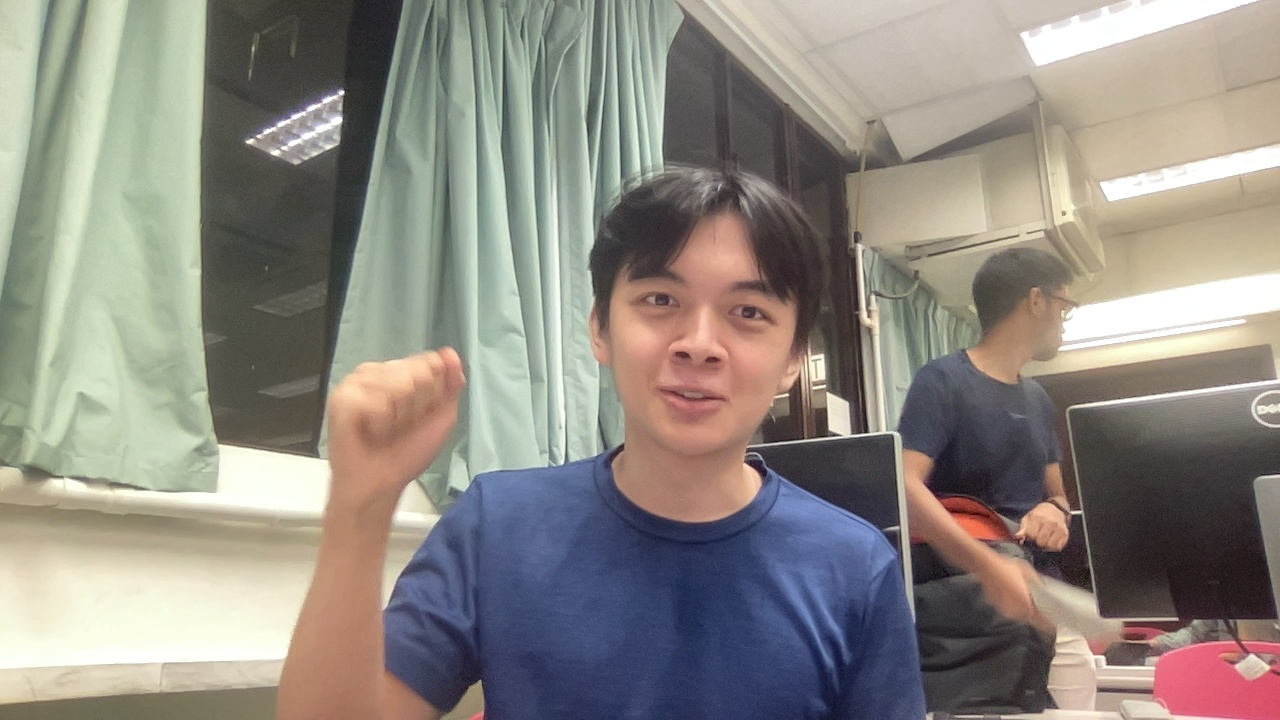yes: (277, 301, 503, 525)
